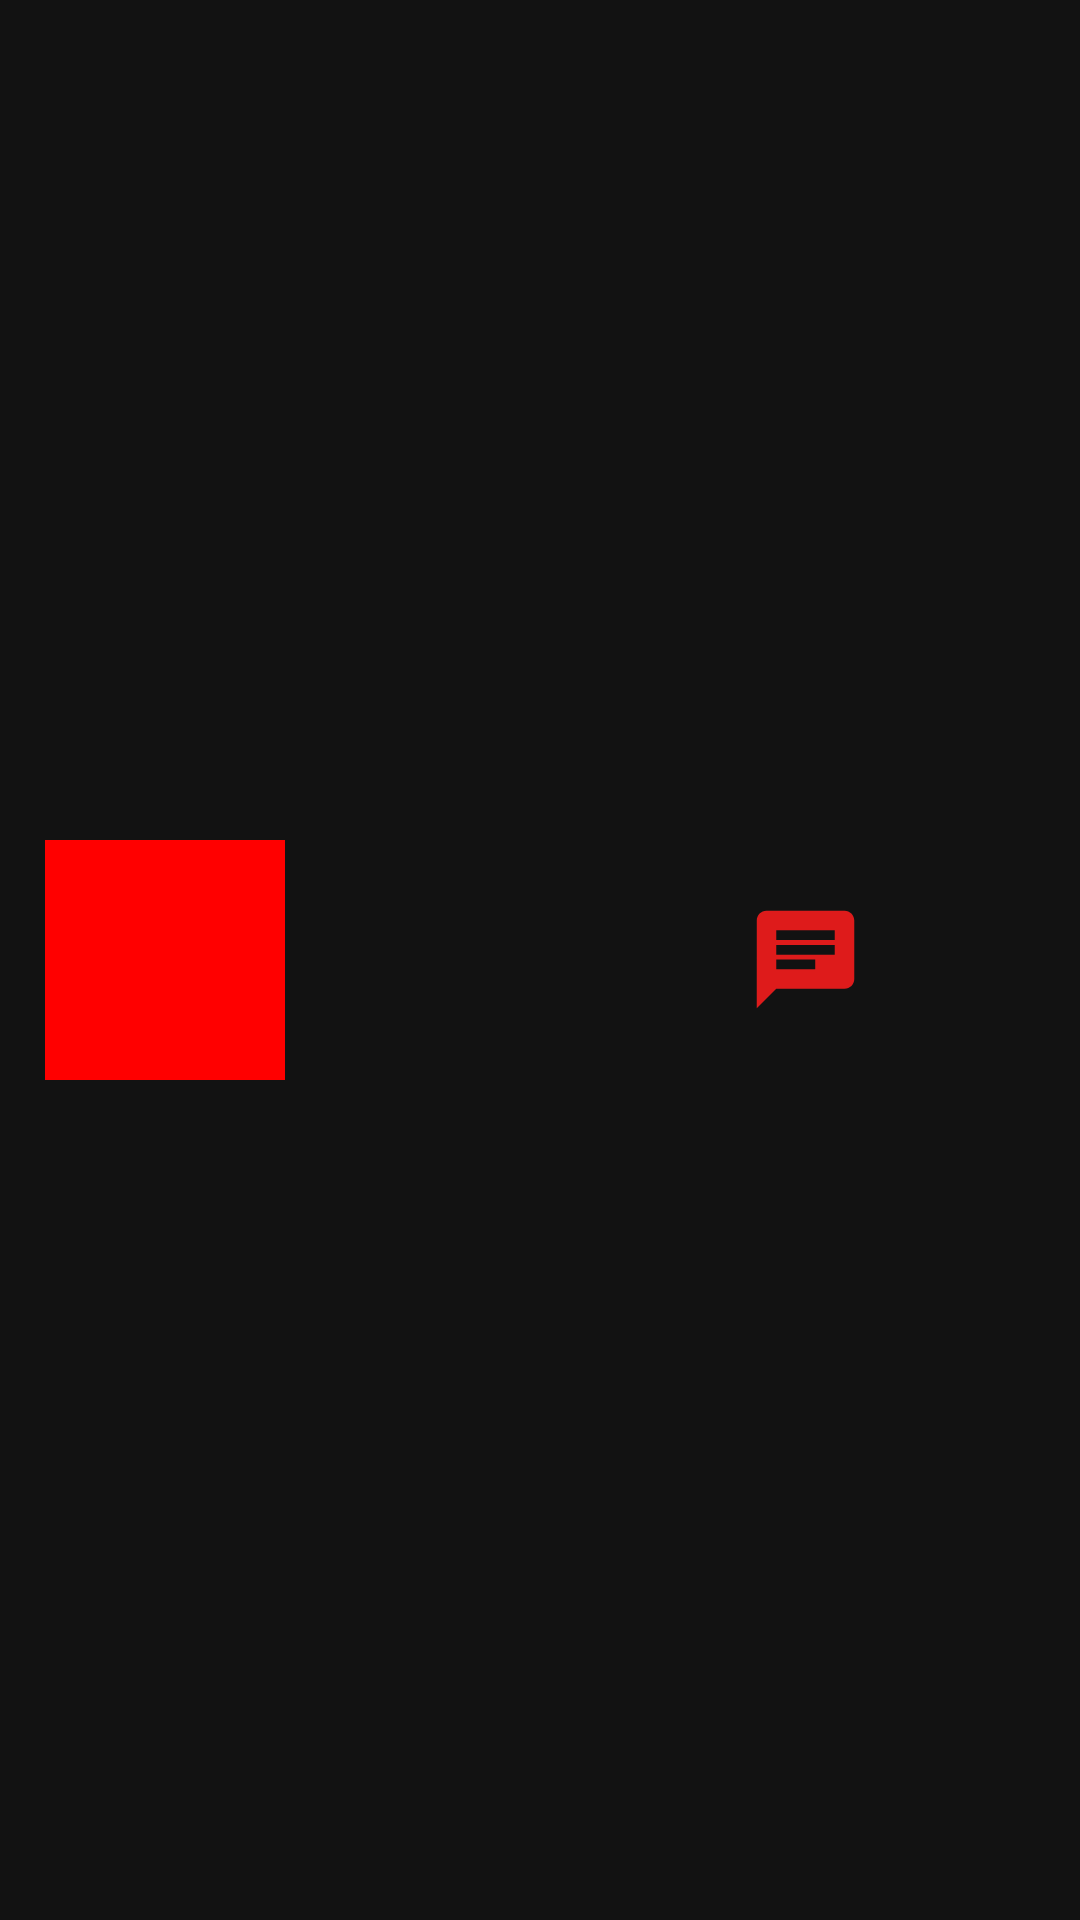

Icons on this 1080px x 1920px Android screen, each with its box as (x1, y1, x2, y2):
chat: (756, 910, 855, 1008)
